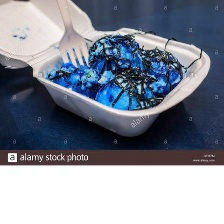foam_box: (0, 0, 214, 141)
